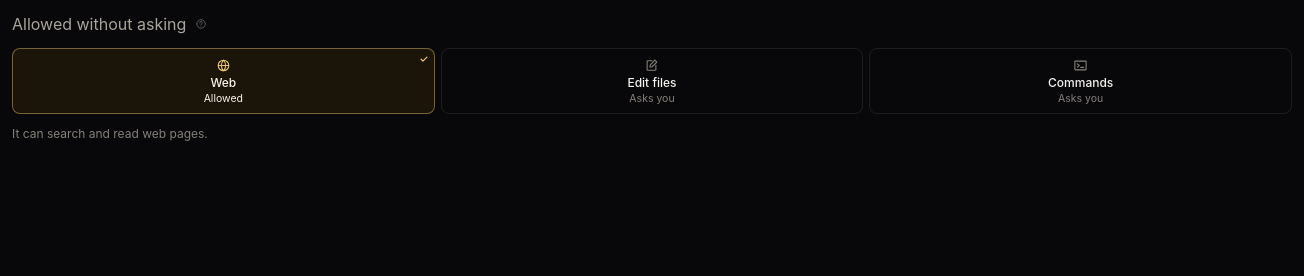
Test case: AgentPermissions › shows each switch as it is in the team file and says what it means
Expected: the button with aria-label "Search the web" reads "Web Allowed", 12,48 -> 435,114
Expected: the button "Edit files Asks you" is shown, 441,48 -> 863,114
Click the button named "About Allowed without asking" at point(201, 24), box 192,15 -> 210,33
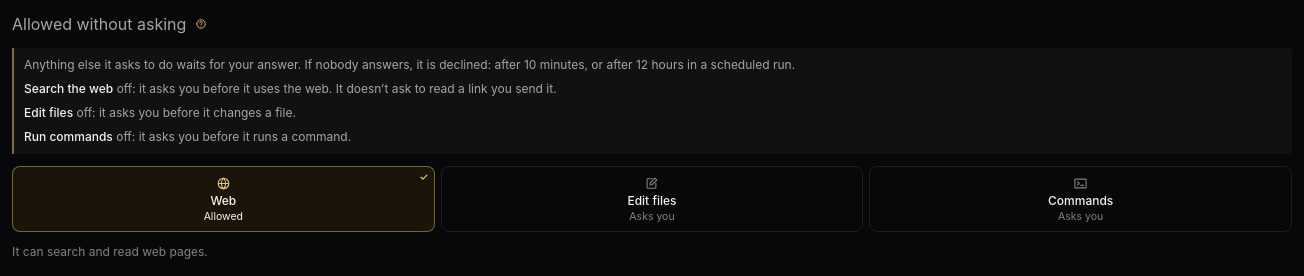
Result: the text "waits for your answer. If nobody answers, it is declined: after 10 minutes, or after 12 hours in a scheduled run." is shown at 24,57 -> 795,72
Result: the text "Search the web off: it asks you before it uses the web. It doesn’t ask to read a link you send it." is shown at 24,81 -> 557,96
Result: the text "Edit files off: it asks you before it changes a file." is shown at 24,105 -> 296,120
